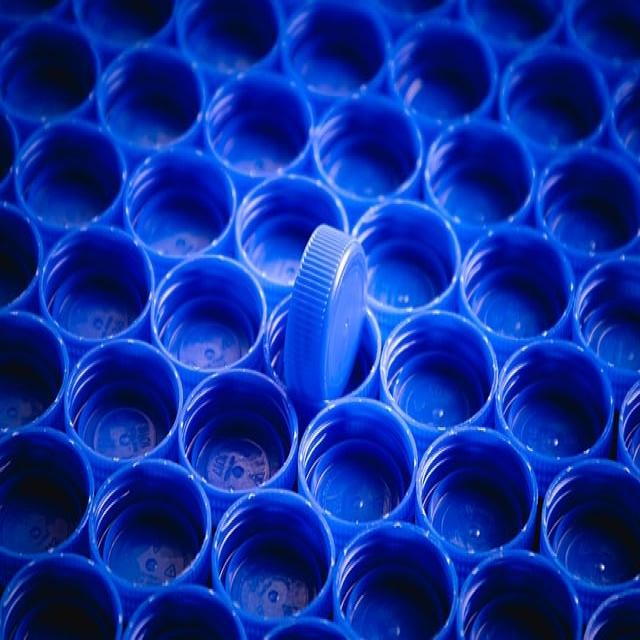plastic: (23, 45, 609, 564)
